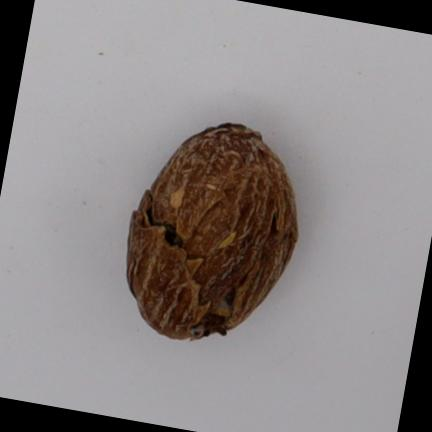husk: (127, 124, 297, 339)
